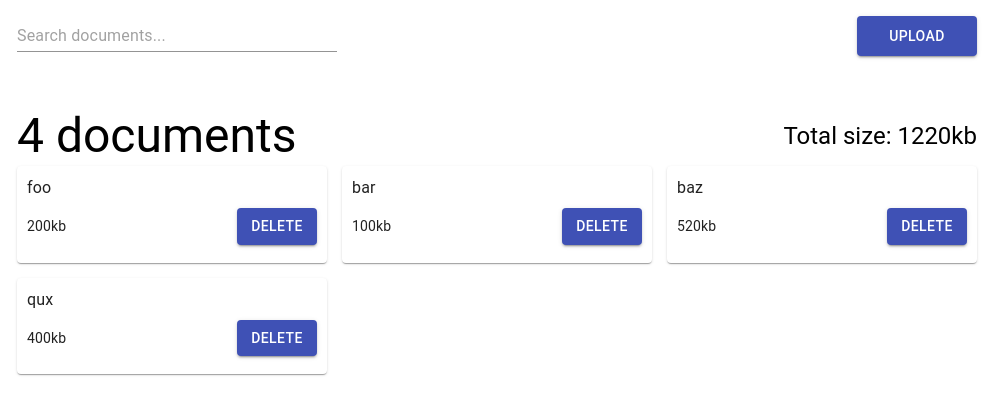
Test: Documents Page › should search for documents
Type "baz" into the field with test id "Searchbar-input" at point(177, 36), box 17,20 -> 337,52
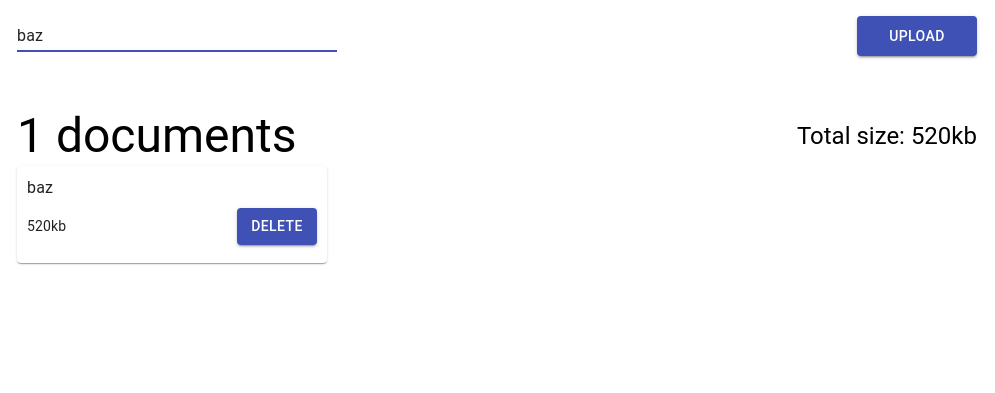
Check: the text with test id "DocumentCard-name-baz" reads "baz", box 27,178 -> 53,197
Check: the heading with test id "DocumentsPage-header" reads "1 documents", box 17,107 -> 296,164
Check: the heading with test id "DocumentsPage-totalSize" reads "Total size: 520kb", box 797,122 -> 977,150
